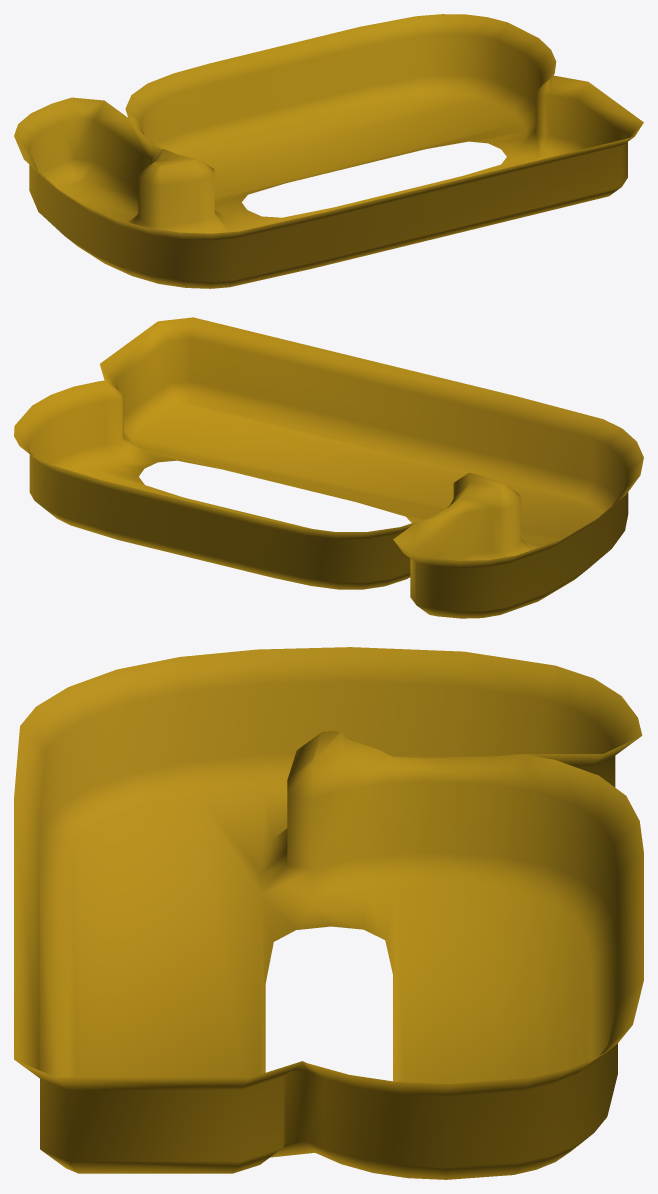
File: original-159.obj
3 renders of one model, top to bottom at view 1: azimuth 30°, elevation 25°; view 2: azimuth 150°, elevation 25°; view 3: azimuth 270°, elevation 25°, orthographic. The views are drawn at different scales.
Visible parts, largest first — view 1: #ID1047; view 2: #ID1047; view 3: #ID1047.
Boxes of the visible parts, x1,y1,x2,y2 form: #ID1047: (14,14,643,288); #ID1047: (14,317,643,618); #ID1047: (14,647,643,1179).
Size of the model in its own units: 0.0192 by 0.00241 by 0.0117.
Materials: 1 (1 with a texture image).
